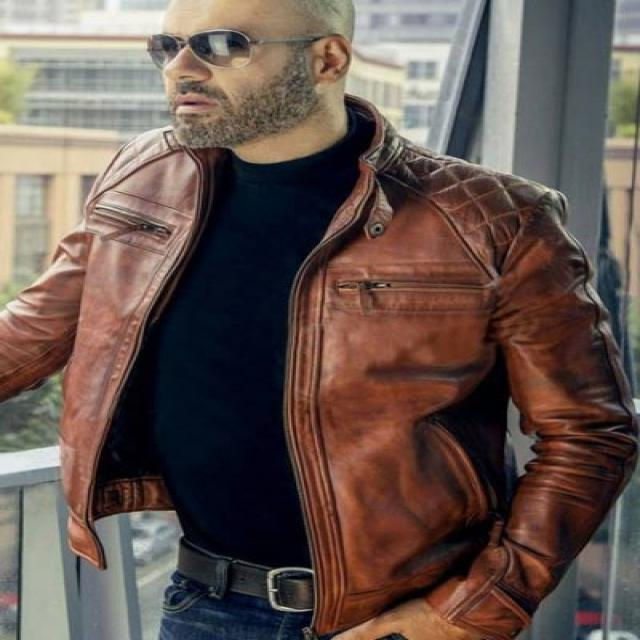Jacket: (1, 115, 638, 640)
